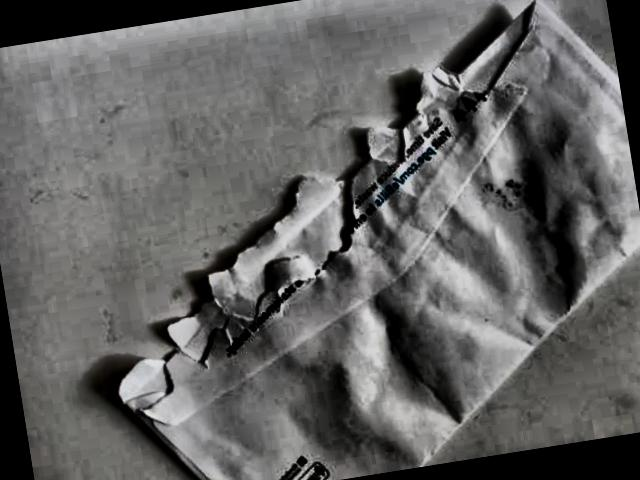Paper: (72, 0, 640, 480)
